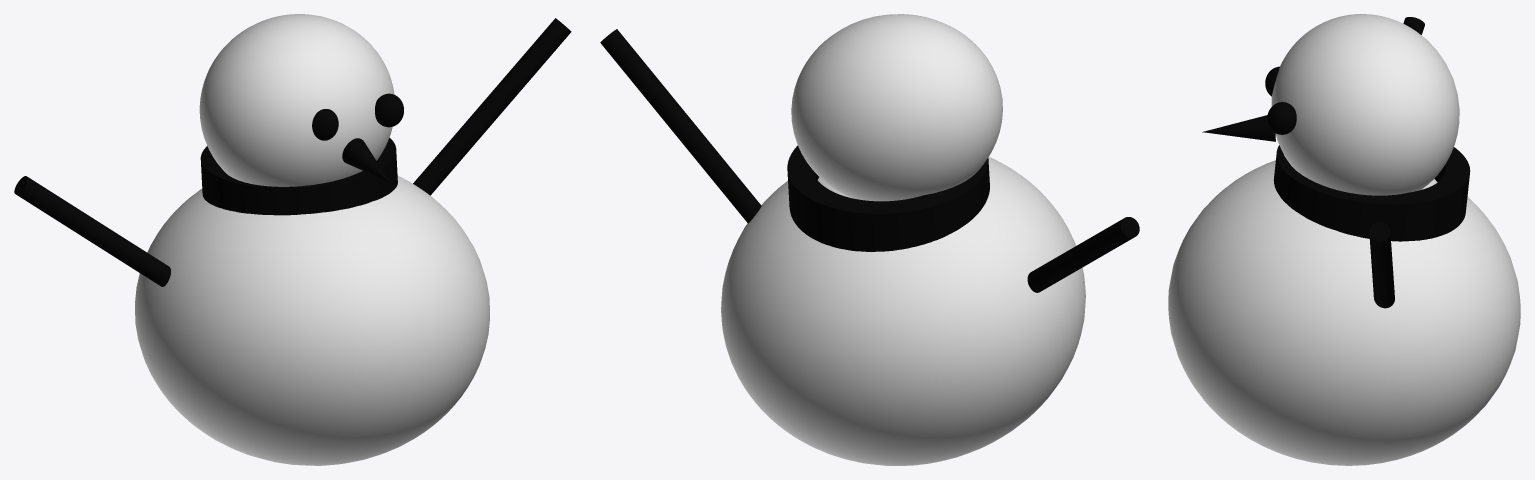
File: snow.glb
3 views of the same model, side by side, from view 1: azimuth 30°, elevation 25°; view 2: azimuth 150°, elevation 25°; view 3: azimuth 270°, elevation 25° (orthographic). The views are drawn at different scales.
Parts seen in each view (by area): view 1: mesh_id29, mesh_id27, mesh_id62, mesh_id75, mesh_id82, mesh_id50, mesh_id37, mesh_id31; view 2: mesh_id29, mesh_id27, mesh_id62, mesh_id75, mesh_id82; view 3: mesh_id29, mesh_id27, mesh_id62, mesh_id75, mesh_id50, mesh_id37.
Boxes of the visible parts, bbox=[...] form: mesh_id29: bbox=[135, 176, 489, 465]; mesh_id27: bbox=[199, 14, 394, 186]; mesh_id62: bbox=[200, 137, 397, 215]; mesh_id75: bbox=[413, 18, 571, 195]; mesh_id82: bbox=[14, 176, 170, 286]; mesh_id50: bbox=[342, 138, 389, 182]; mesh_id37: bbox=[375, 93, 403, 127]; mesh_id31: bbox=[312, 109, 338, 140]; mesh_id29: bbox=[721, 157, 1085, 465]; mesh_id27: bbox=[791, 14, 1002, 201]; mesh_id62: bbox=[787, 145, 989, 251]; mesh_id75: bbox=[600, 29, 761, 223]; mesh_id82: bbox=[1027, 217, 1139, 292]; mesh_id29: bbox=[1168, 160, 1520, 465]; mesh_id27: bbox=[1271, 14, 1459, 195]; mesh_id62: bbox=[1273, 145, 1470, 241]; mesh_id75: bbox=[1369, 221, 1394, 308]; mesh_id50: bbox=[1202, 115, 1275, 141]; mesh_id37: bbox=[1267, 102, 1296, 134].
Bounding box in the file's own units: 0.3367 × 0.2517 × 0.1926.
Materials: 6 (6 with a texture image).
